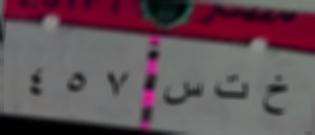4: (25, 61, 47, 103)
5: (62, 65, 90, 101)
7: (104, 60, 132, 106)
khaa: (257, 68, 293, 125)
seen: (161, 72, 206, 115)
taa: (212, 68, 250, 112)
